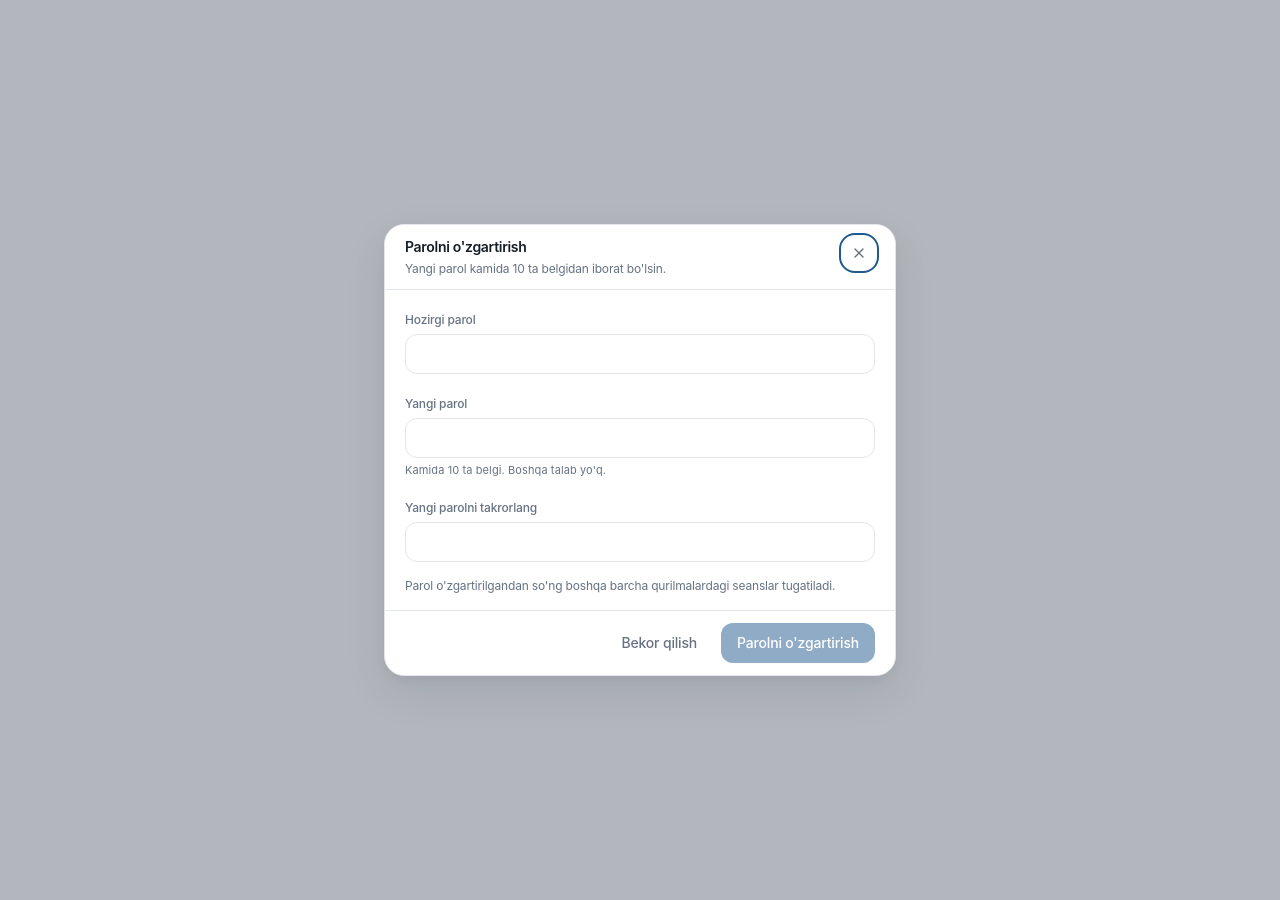
Test case: the form › renders a wrong current password as its Uzbek sentence
Type "wrongpassword" into the password field labelled "Hozirgi parol" at (640, 354), box [405,334,875,374]
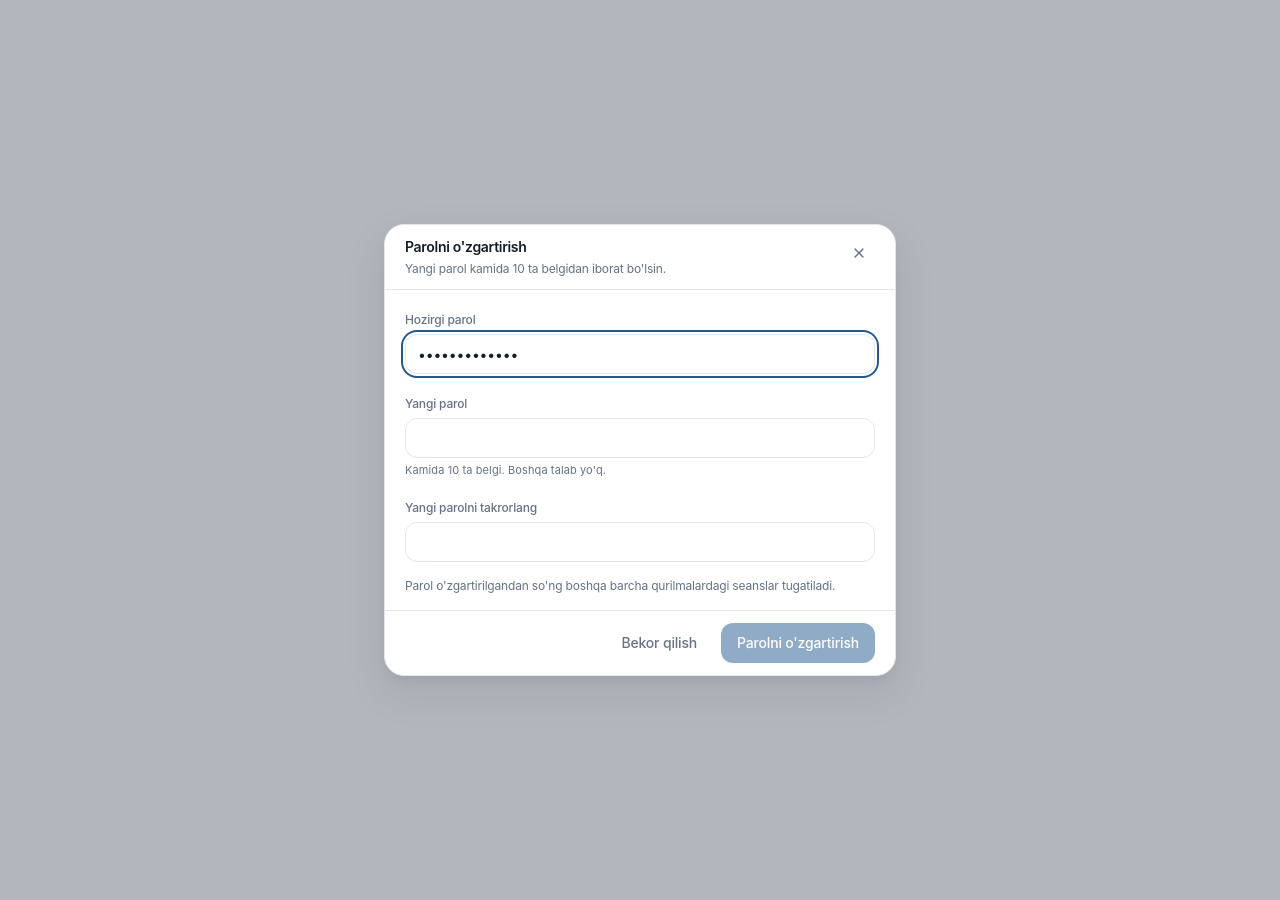
Type "longenoughpassword" into the password field labelled "Yangi parol" at (640, 438), box [405,418,875,458]
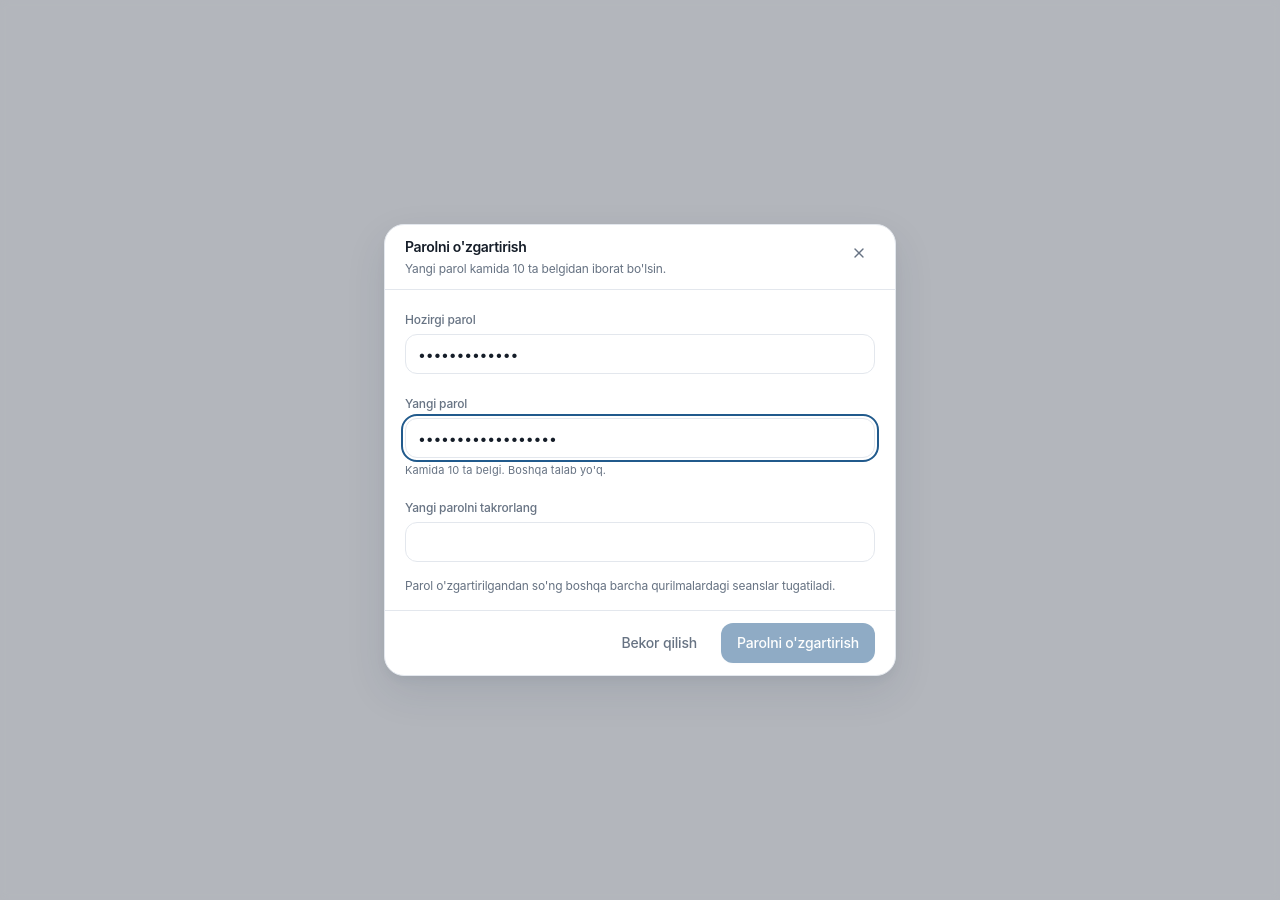
Type "longenoughpassword" into the password field labelled "Yangi parolni takrorlang" at (640, 542), box [405,522,875,562]
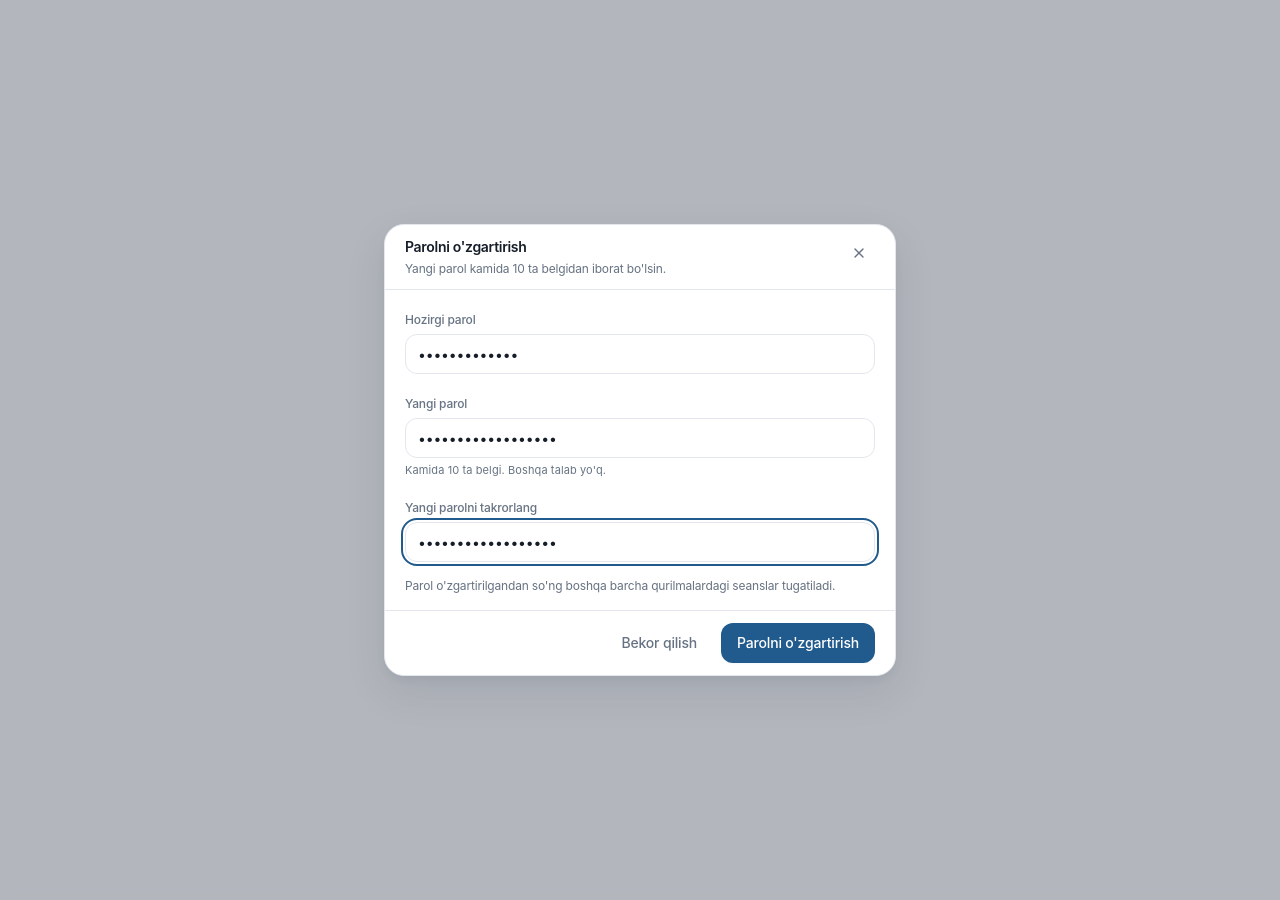
Click the button "Parolni o'zgartirish" at (798, 643), box [721,623,875,663]
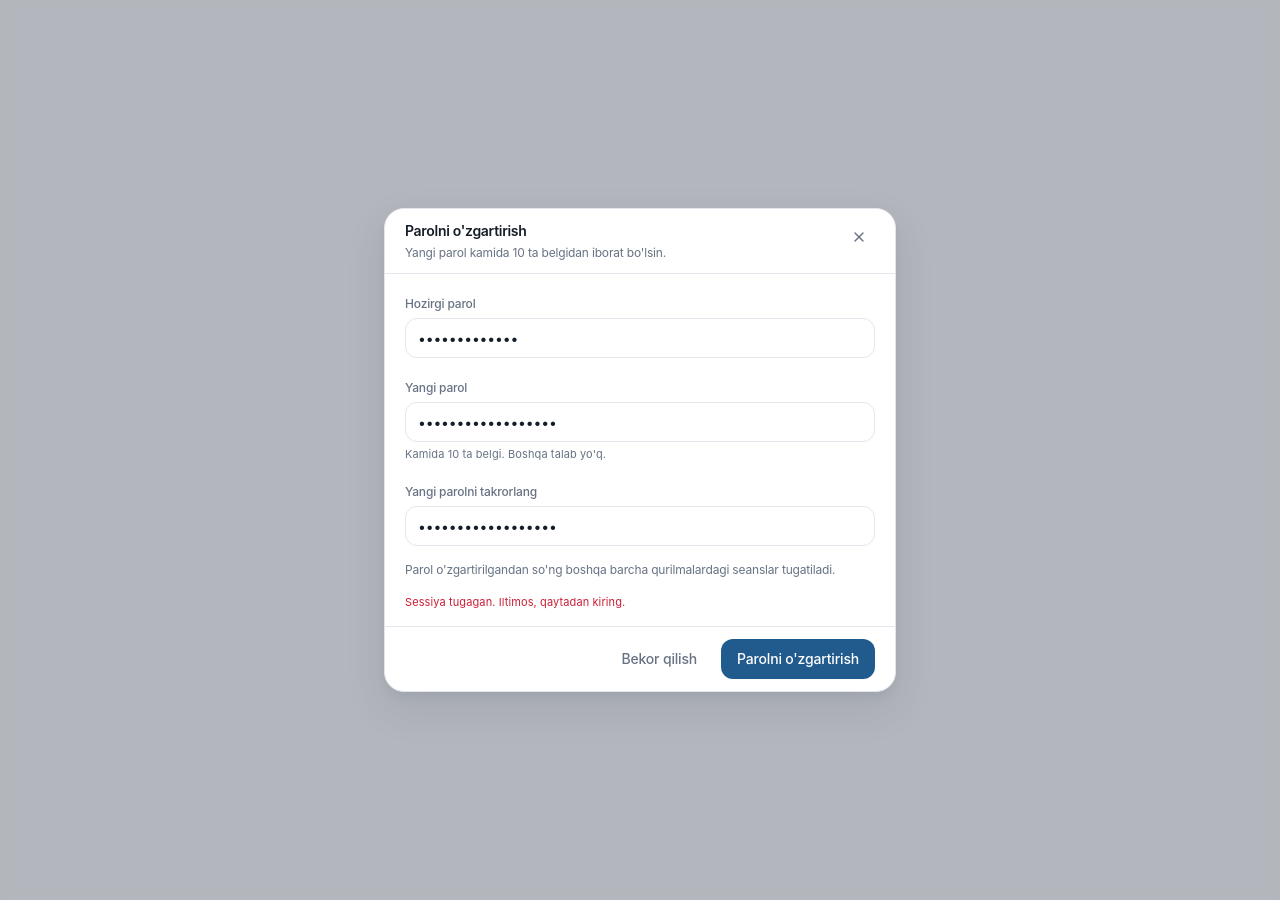
Expected: the text "Sessiya tugagan. Iltimos, qaytadan kiring." is shown, [405,595,625,609]
